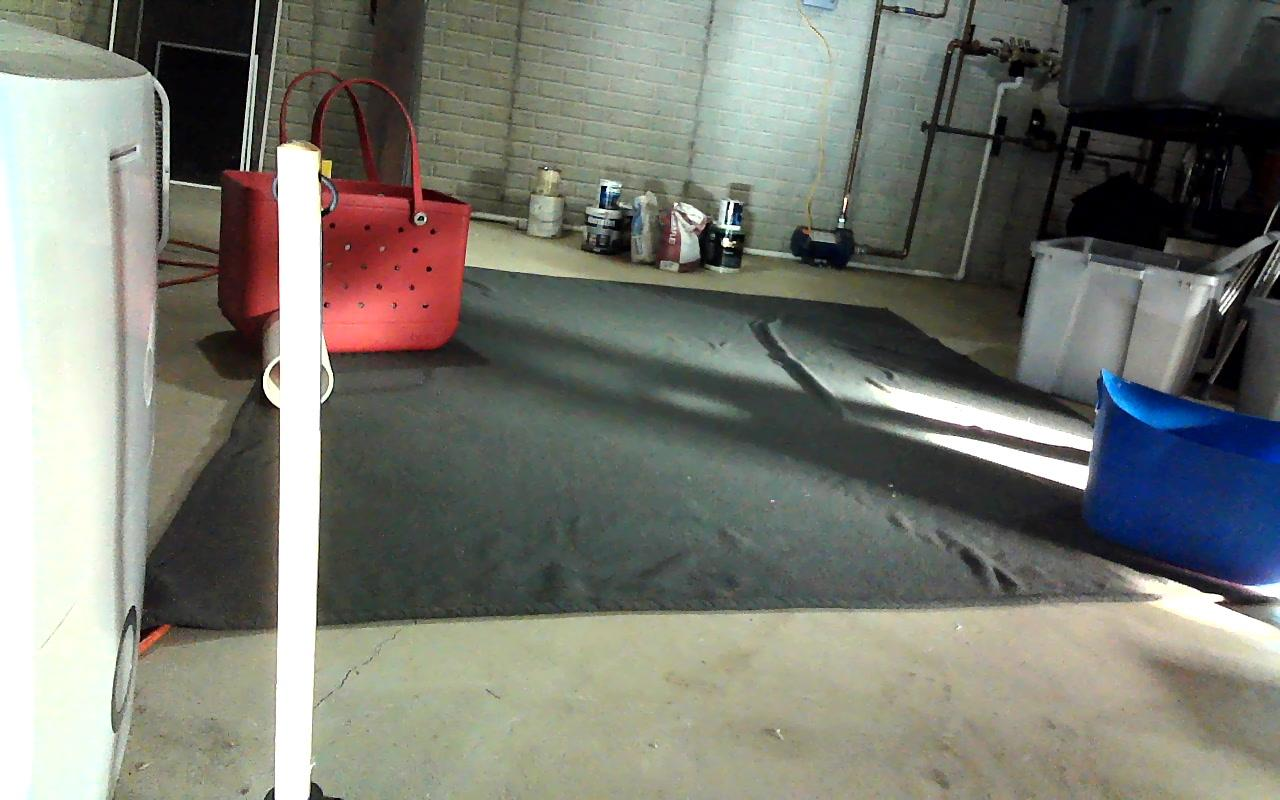coral: (262, 312, 332, 409)
